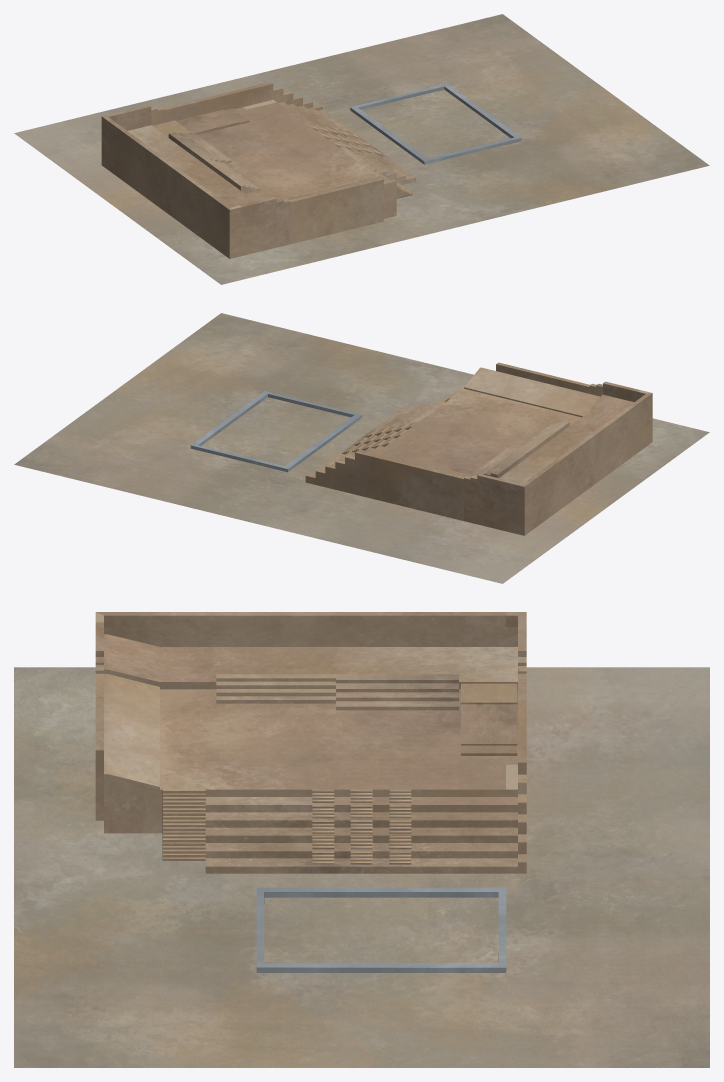
Rendered from structure_v2-transformed.glb.
3 views of the same model, one above another, from view 1: azimuth 30°, elevation 25°; view 2: azimuth 150°, elevation 25°; view 3: azimuth 270°, elevation 25° (orthographic). The views are drawn at different scales.
Parts seen in each view (by area): view 1: Plane, Plane_1, pond; view 2: Plane, Plane_1, pond; view 3: Plane, Plane_1, pond.
Boxes of the visible parts, <box> form: Plane: <box>14,14,709,284</box>; Plane_1: <box>101,82,415,258</box>; pond: <box>350,83,521,164</box>; Plane: <box>14,313,709,583</box>; Plane_1: <box>305,362,652,535</box>; pond: <box>190,391,362,472</box>; Plane: <box>14,667,709,1067</box>; Plane_1: <box>95,612,526,873</box>; pond: <box>256,887,506,972</box>.
Bounding box in the file's own units: 401 × 38.62 × 295.
3 materials, 3 textured.
